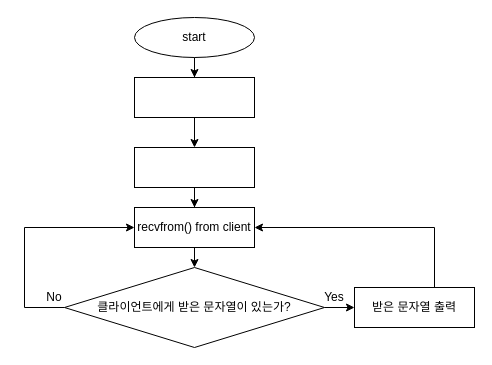
This 492x365 diagram has some shape labels left out. Each missing label, with the box of its shape:
server 소켓 생성: (134, 76, 254, 118)
클라이언트 accept: (134, 146, 254, 188)
